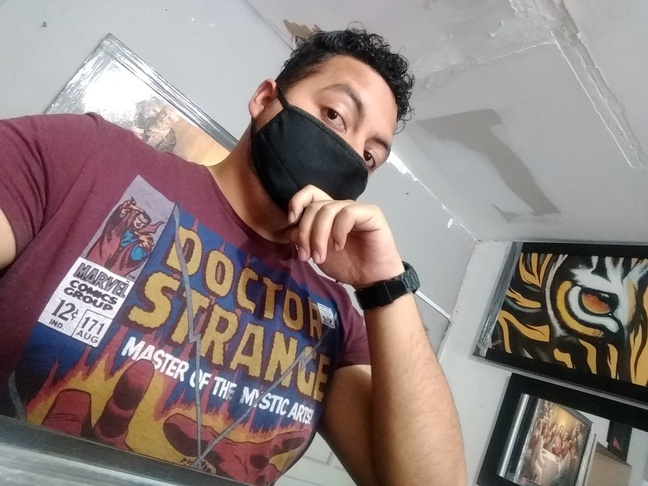Yoshi: (243, 13, 439, 242)
